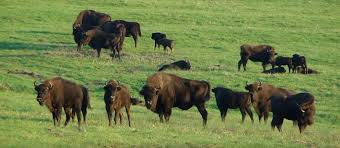zubr: (135, 65, 218, 132), (264, 85, 322, 138), (34, 75, 98, 123), (210, 78, 259, 132), (243, 67, 276, 126), (72, 24, 126, 58), (102, 74, 136, 125), (236, 32, 276, 73), (64, 6, 115, 36), (152, 25, 183, 56), (154, 56, 196, 75), (290, 47, 314, 77)
